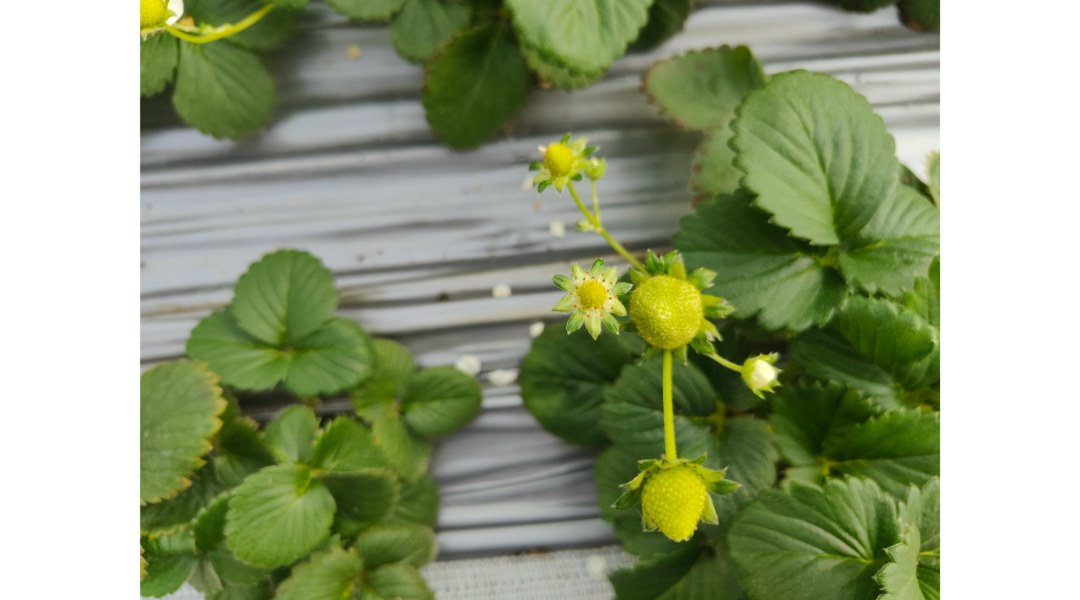berry: (613, 439, 743, 545), (617, 239, 730, 359), (511, 117, 615, 210), (544, 256, 623, 342), (739, 340, 784, 400)
strain: (650, 358, 687, 470)
